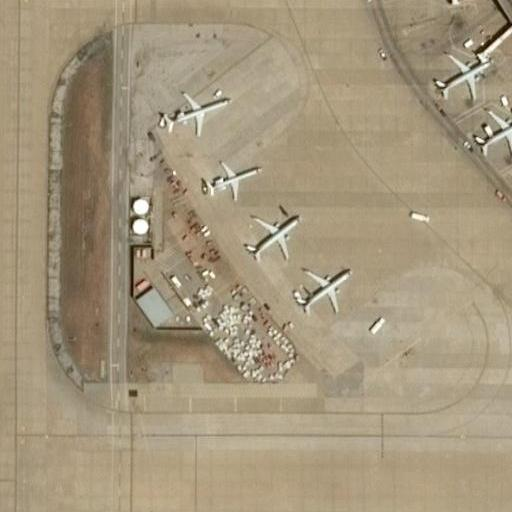Aircraft: (430, 47, 494, 101), (162, 88, 234, 133), (292, 263, 351, 316), (196, 155, 259, 199), (245, 212, 301, 257), (471, 105, 512, 164)
